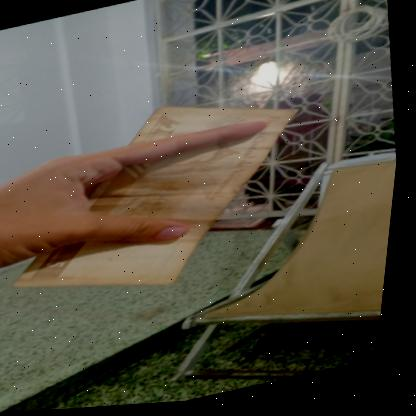five-back-vef: (0, 78, 327, 321)
